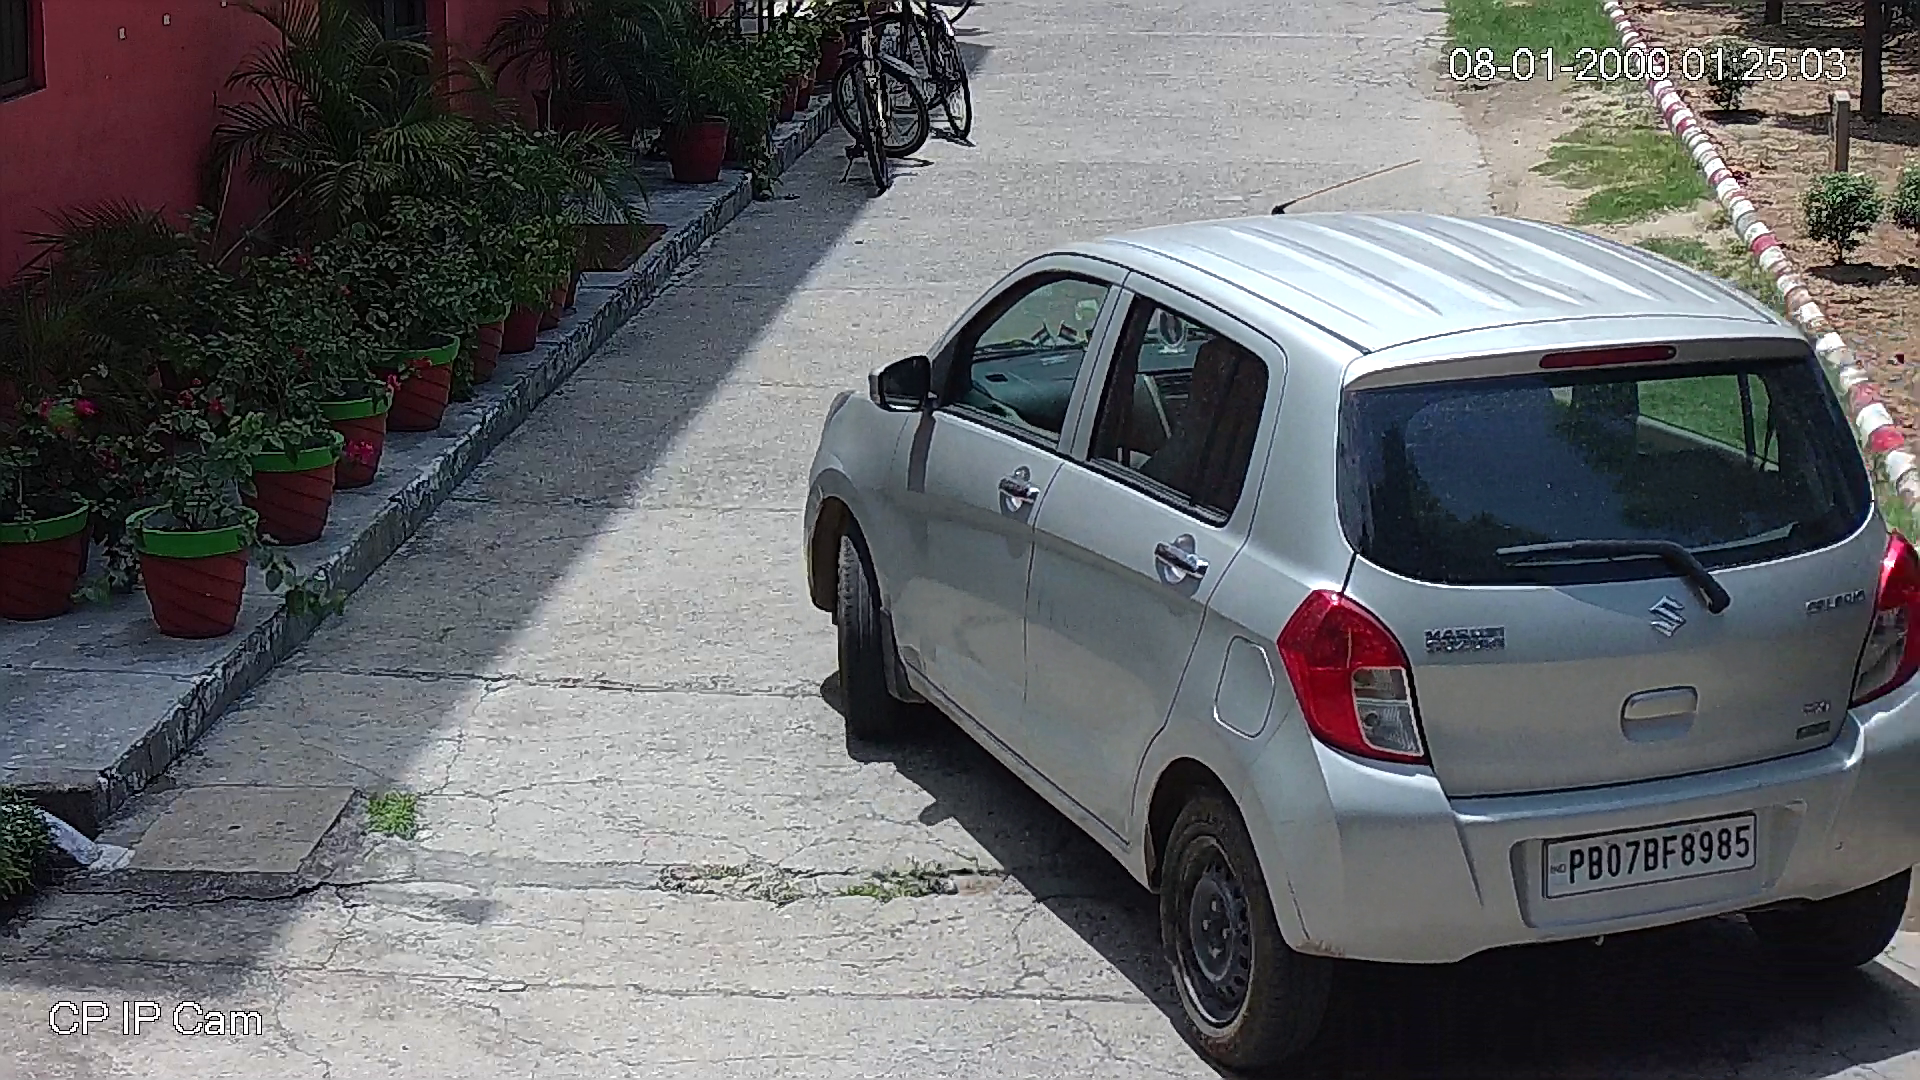plate: (1546, 819, 1758, 894)
